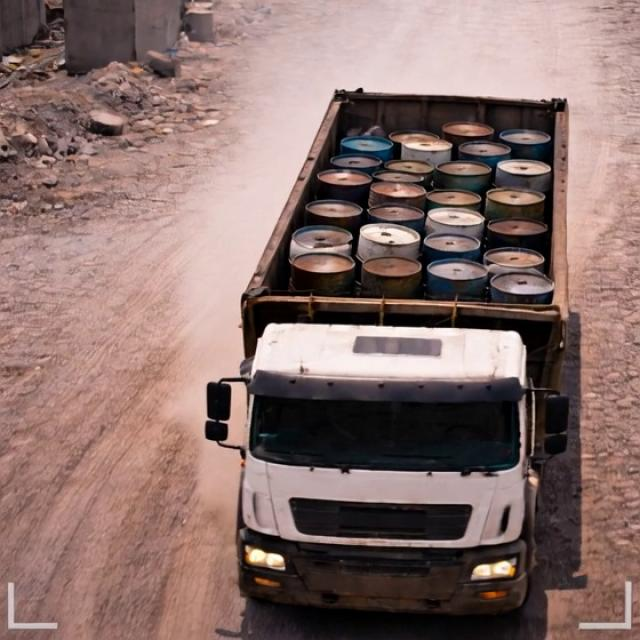trailer: (237, 90, 582, 320)
truck: (191, 59, 600, 606)
